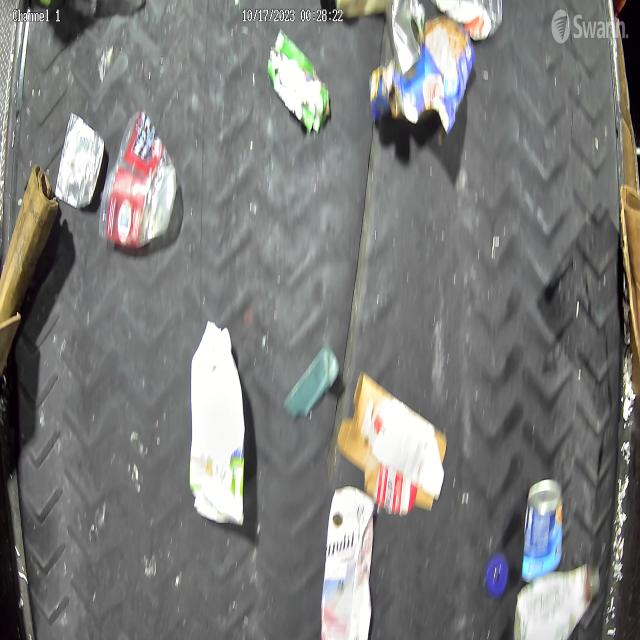can: (55, 112, 104, 208), (522, 475, 564, 581)
milk_jug: (192, 320, 246, 520)
non_white_jug: (321, 486, 375, 640)
